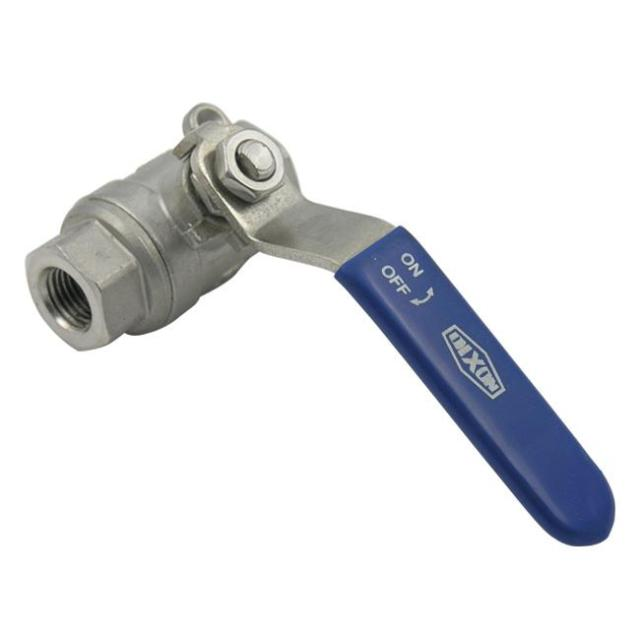closed_valve: (19, 94, 618, 551)
